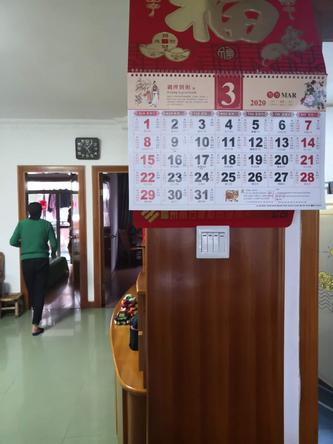switch: (206, 233, 213, 256), (225, 234, 230, 257), (217, 234, 221, 259), (201, 231, 203, 256)
